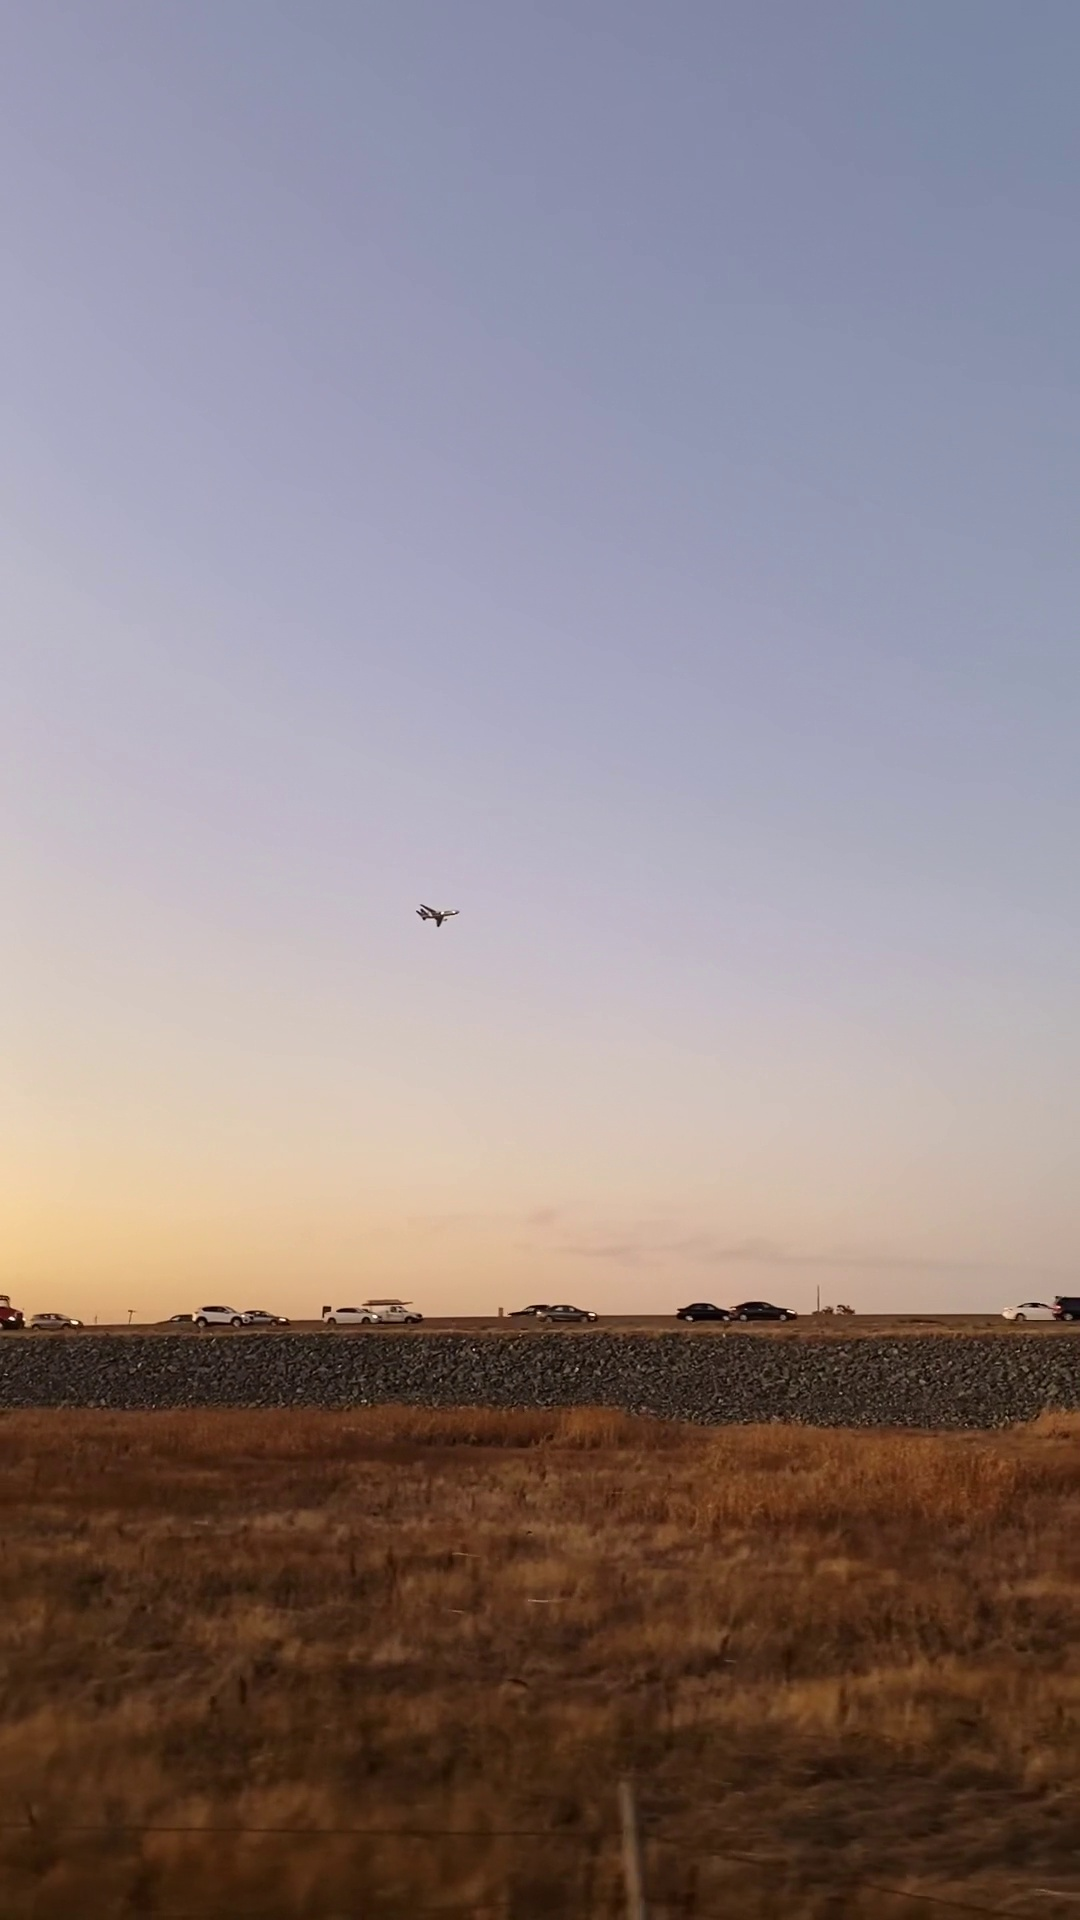plane: (415, 902, 459, 926)
